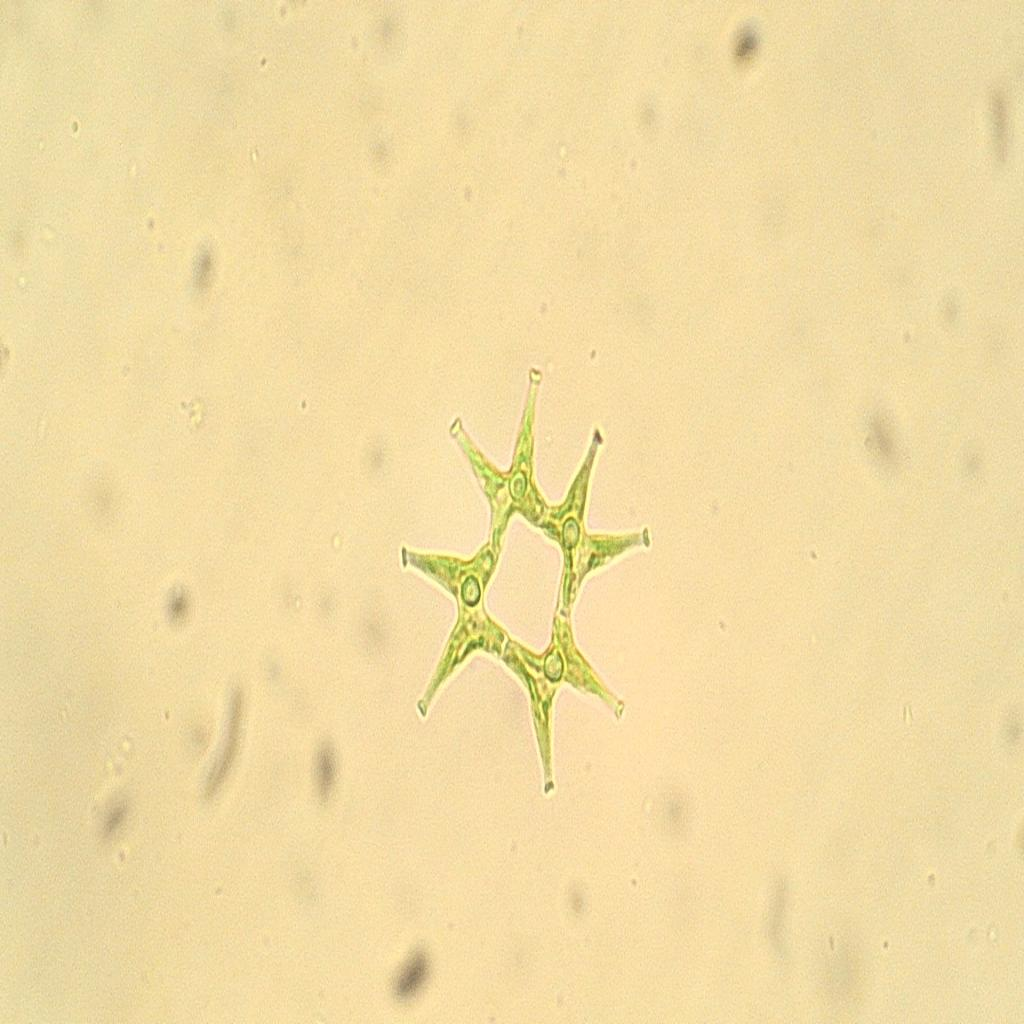Pediastrum_CO: (390, 353, 657, 832)
